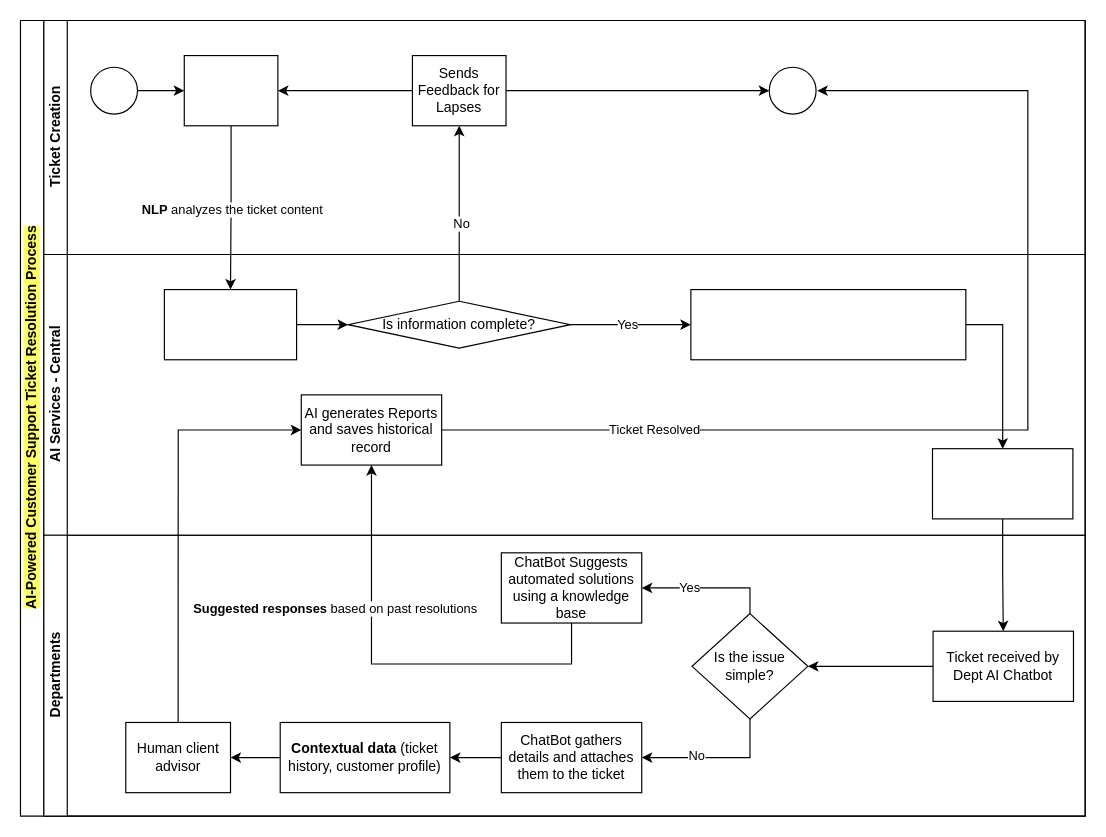
Some shapes in this 1106 by 837 pixel diagram are drawn without their labels. The shapes that lost their labels are listed below. From the top down, each one's centre as x and y in pixels, then its label:
At pixel 113 90: "Start".
At pixel 230 90: "Support Request raised".
At pixel 792 90: "STOP".
At pixel 230 324: "Extracts Issue type, Urgency and Sentiment".
At pixel 828 324: "Historical Pattern Matching to locate the exact department".
At pixel 1002 483: "Assigns tickets to department with availability or expertise".
